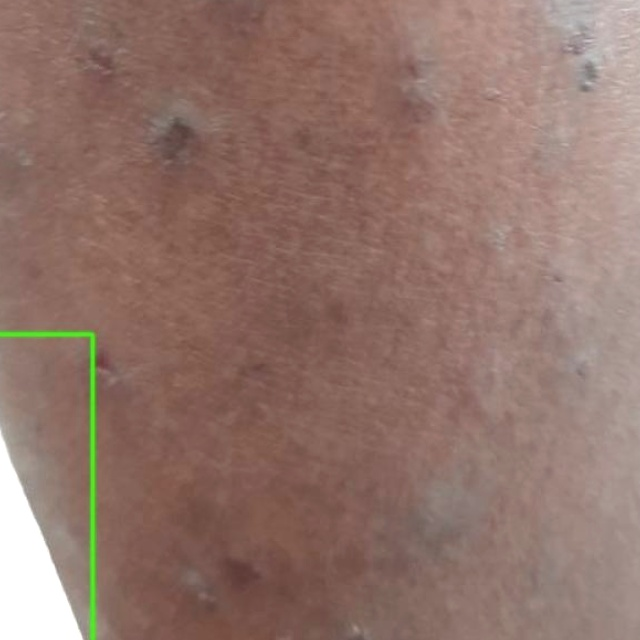Atopic Dermatitis: (0, 335, 93, 639)
